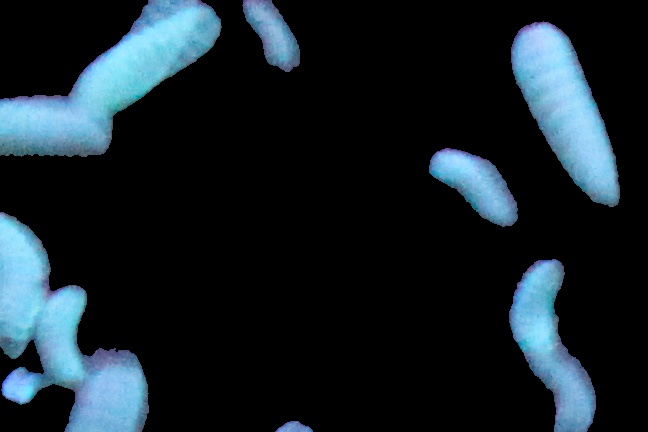larvae: (506, 36, 614, 200), (505, 254, 598, 432), (86, 12, 190, 112), (1, 217, 50, 357), (431, 148, 514, 224), (78, 349, 152, 432), (1, 112, 110, 164), (36, 288, 86, 389)
